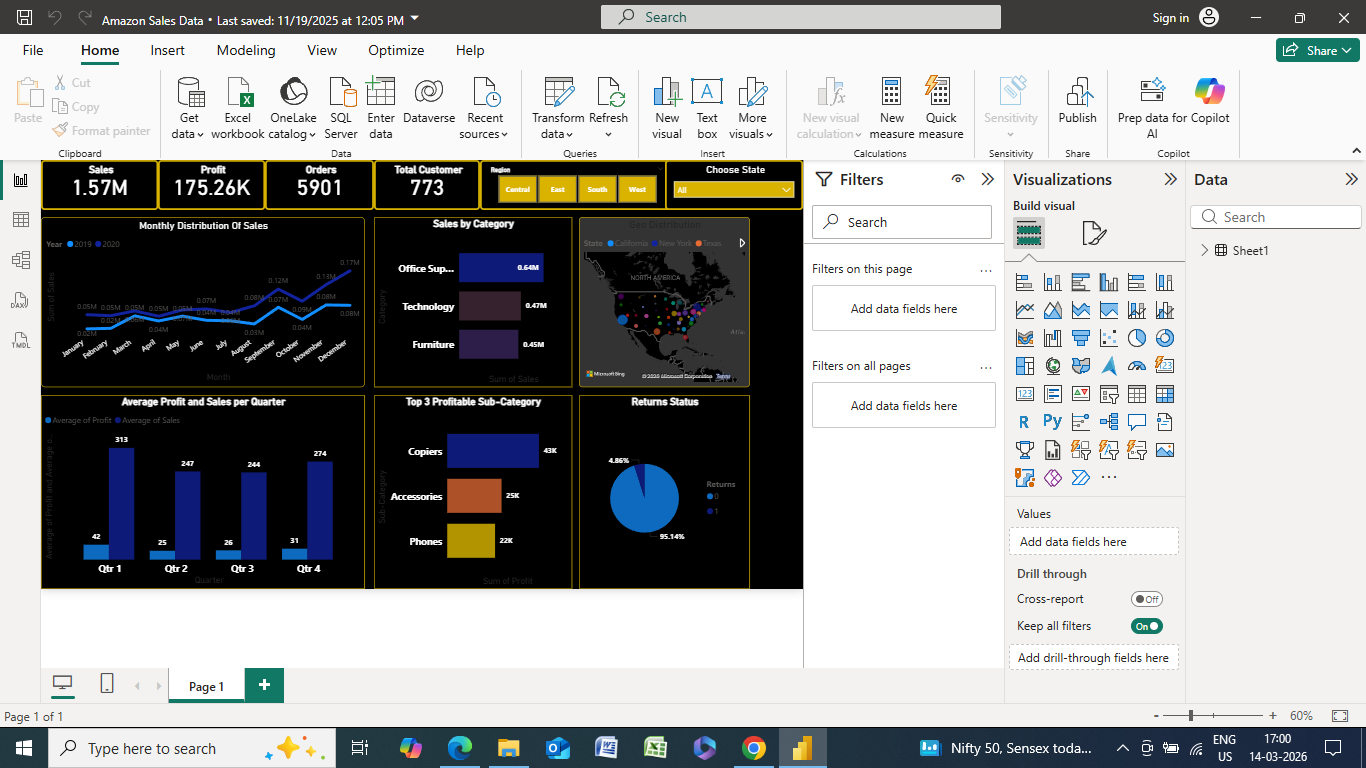

Layout of this report page (visuals, bound fields, positions):
{"tool":"powerbi","page":{"name":"Page 1","canvas":[1280,720],"ordinal":0},"visuals":[{"type":"lineChart","title":"Monthly Distribution Of Sales","fields":{"Y":["Sum(Sheet1.Sales)"],"Category":["Sheet1.Order Date.Variation.Date Hierarchy.Month"],"Series":["Sheet1.Order Date.Variation.Date Hierarchy.Year"]},"box":[0,95.7,544.3,285.6],"z":0},{"type":"clusteredColumnChart","title":"Average Profit and Sales per Quarter","fields":{"Category":["Sheet1.Order Date.Variation.Date Hierarchy.Quarter"],"Y":["Avg(Sheet1.Profit)","Avg(Sheet1.Sales)"]},"box":[0,394.8,544.3,325.9],"z":1000},{"type":"map","title":"Geo Distribution","fields":{"Category":["Sheet1.State"],"Series":["Sheet1.State"],"Size":["Sum(Sheet1.Sales)"]},"box":[903.7,95.7,287.2,285.6],"z":2000},{"type":"clusteredBarChart","title":"Sales by Category","fields":{"Category":["Sheet1.Category"],"Y":["Sum(Sheet1.Sales)"]},"box":[559.4,95.7,332.6,285.6],"z":3000},{"type":"clusteredBarChart","title":"Top 3 Profitable Sub-Category","fields":{"Category":["Sheet1.Sub-Category"],"Y":["Sum(Sheet1.Profit)"]},"box":[559.4,394.8,332.6,325.9],"z":4000},{"type":"pieChart","title":"Returns Status","fields":{"Category":["Sheet1.Returns"],"Y":["CountNonNull(Sheet1.Order ID)"]},"box":[903.7,394.8,287.2,325.9],"z":5000},{"type":"card","title":"Sales","fields":{"Values":["Sum(Sheet1.Sales)"]},"box":[0,0,196.5,84],"z":6000},{"type":"card","title":"Profit","fields":{"Values":["Sum(Sheet1.Profit)"]},"box":[196.5,0,179.7,84],"z":7000},{"type":"card","title":"Orders","fields":{"Values":["CountNonNull(Sheet1.Order ID)"]},"box":[376.3,0,183.1,84],"z":8000},{"type":"card","title":"Total Customer","fields":{"Values":["Count(Sheet1.Customer ID)"]},"box":[559.4,0,178.1,84],"z":9000},{"type":"slicer","fields":{"Values":["Sheet1.Region"]},"box":[737.4,0,325.9,84],"z":10000},{"type":"slicer","title":"Choose State","fields":{"Values":["Sheet1.State"]},"box":[1048.2,0,231.8,84],"z":11000}]}

Visuals, with their boxes on the page's 1280x720 design canvas (x1, y1, x2, y2). These are canvas units, not pixel positions in the 1366x768 screenshot, which may show the page scaled, cropped or inside an application window:
"Monthly Distribution Of Sales" lineChart: [left=0, top=96, right=544, bottom=381]
"Average Profit and Sales per Quarter" clusteredColumnChart: [left=0, top=395, right=544, bottom=721]
"Geo Distribution" map: [left=904, top=96, right=1191, bottom=381]
"Sales by Category" clusteredBarChart: [left=559, top=96, right=892, bottom=381]
"Top 3 Profitable Sub-Category" clusteredBarChart: [left=559, top=395, right=892, bottom=721]
"Returns Status" pieChart: [left=904, top=395, right=1191, bottom=721]
"Sales" card: [left=0, top=0, right=196, bottom=84]
"Profit" card: [left=196, top=0, right=376, bottom=84]
"Orders" card: [left=376, top=0, right=559, bottom=84]
"Total Customer" card: [left=559, top=0, right=738, bottom=84]
slicer - Sheet1.Region: [left=737, top=0, right=1063, bottom=84]
"Choose State" slicer: [left=1048, top=0, right=1280, bottom=84]
